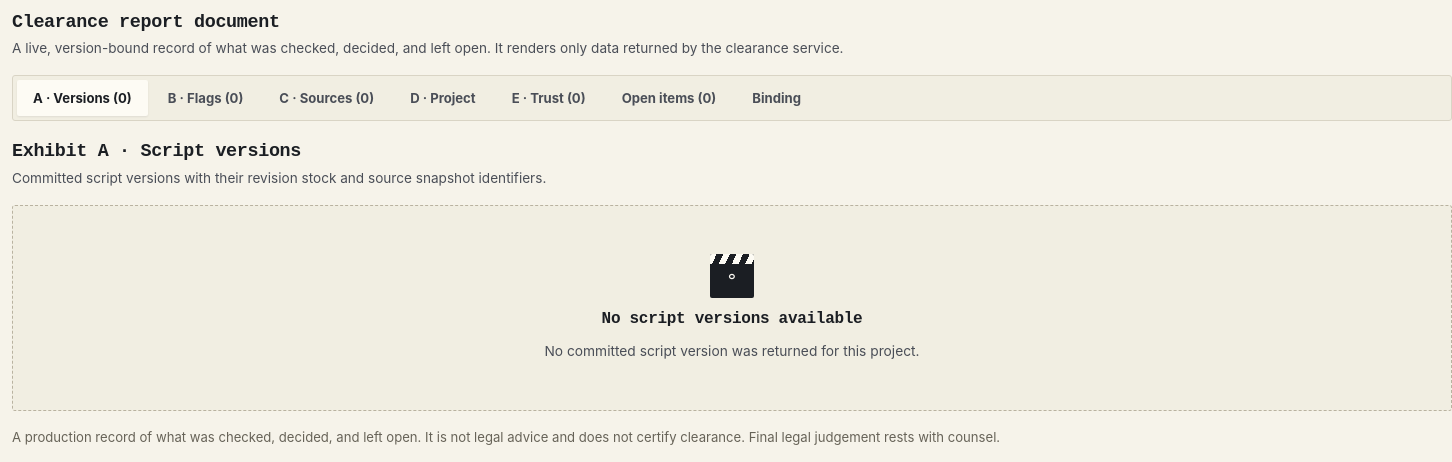
Test case: ReportDocument renders only real data › renders Exhibit D project details from the supplied project
Click the button "D · Project". click: (443, 98)
box: [394,80,492,116]
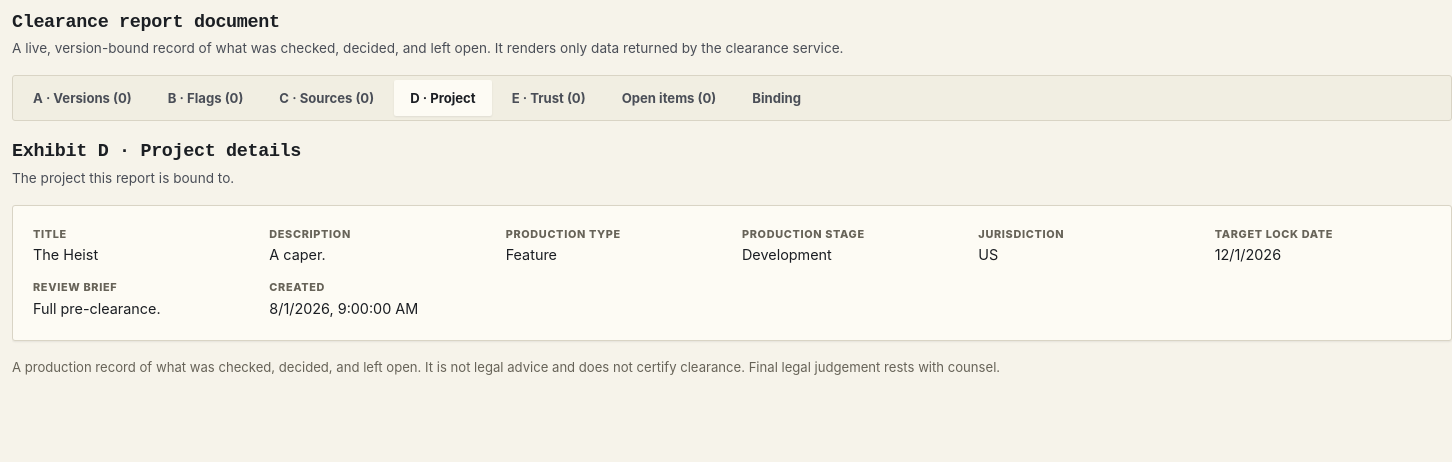
Result: the text "A caper." is shown at [269,246,326,264]
Result: the text "Feature" is shown at [506,246,557,264]
Result: the text "Full pre-clearance." is shown at [33,300,161,317]
